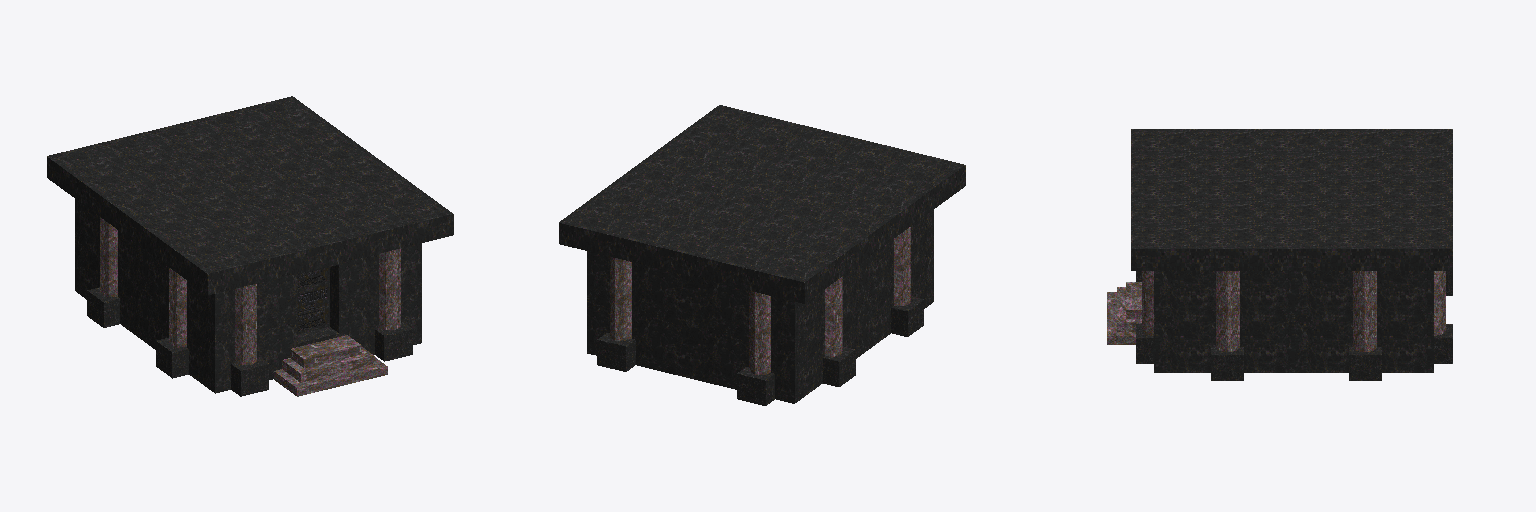
3 renders of one model, left to right at view 1: azimuth 30°, elevation 25°; view 2: azimuth 150°, elevation 25°; view 3: azimuth 270°, elevation 25°, orthographic.
Parts seen in each view (by area): view 1: model43138-node_model43138; view 2: model43138-node_model43138; view 3: model43138-node_model43138.
Boxes of the visible parts, <box> form: model43138-node_model43138: <box>47,96,453,396</box>; model43138-node_model43138: <box>559,105,965,405</box>; model43138-node_model43138: <box>1107,129,1452,380</box>.
Size of the model in its own units: 12 by 6.21 by 14.6.
Materials: 3 (3 with a texture image).